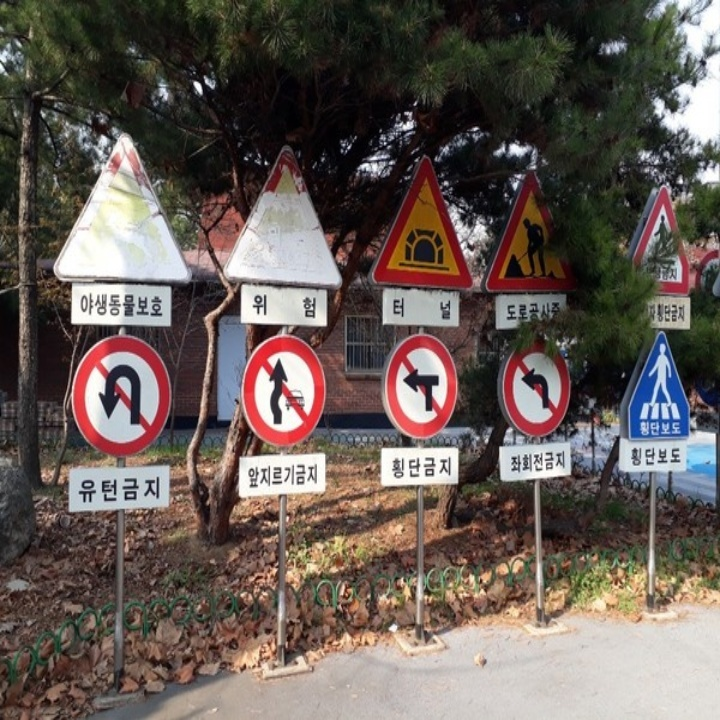const: (505, 211, 554, 279)
cross: (645, 341, 677, 418)
